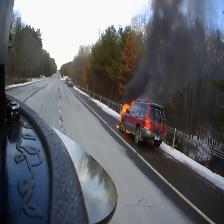smoke: (76, 3, 223, 149)
